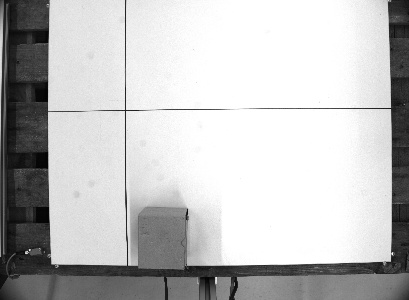b5: (135, 204, 190, 272)
